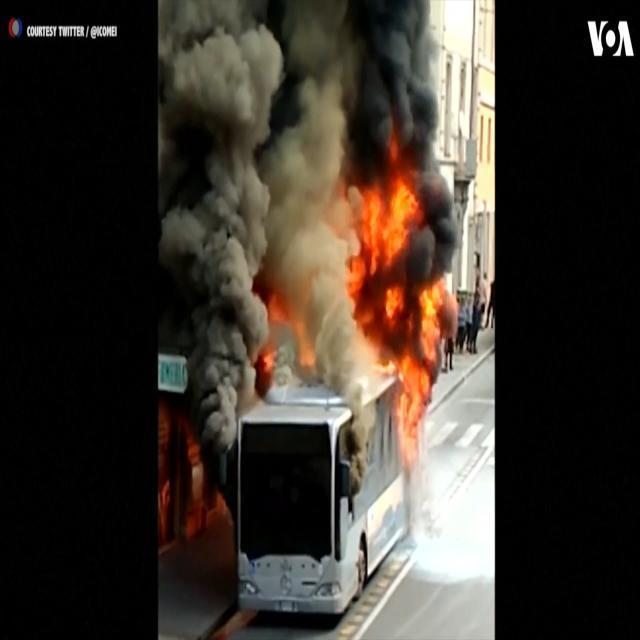fire: (246, 162, 446, 436)
